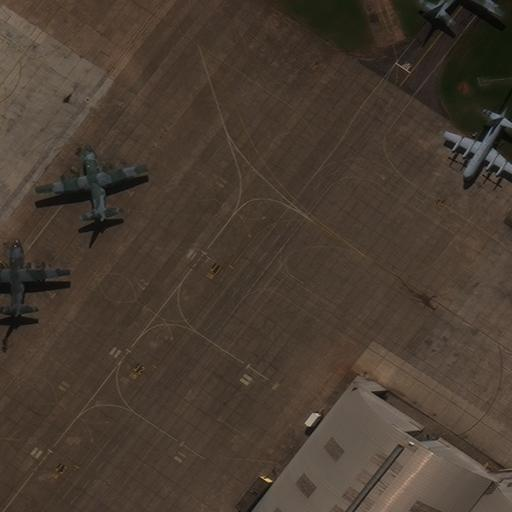Military Transport: (34, 146, 146, 220), (0, 239, 69, 315), (443, 107, 512, 179), (425, 0, 504, 14)
